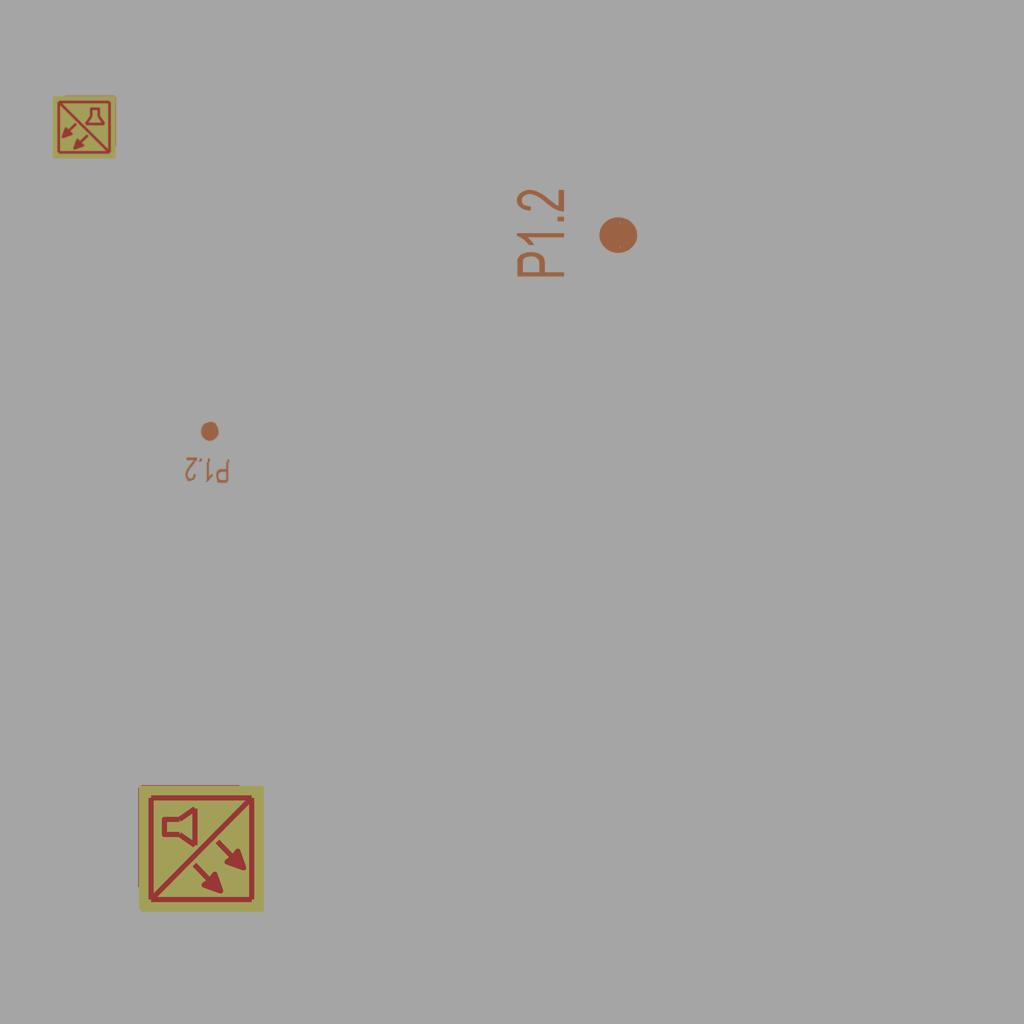Downlight_LED_Einbauleuchten_Flur: (513, 187, 641, 280), (183, 418, 233, 486)
OKW_Multisensormelder_(Kombination_optischer_Rauch-Kahlenmonoxid_Waerme-Melder): (135, 783, 267, 915), (51, 94, 117, 160)
